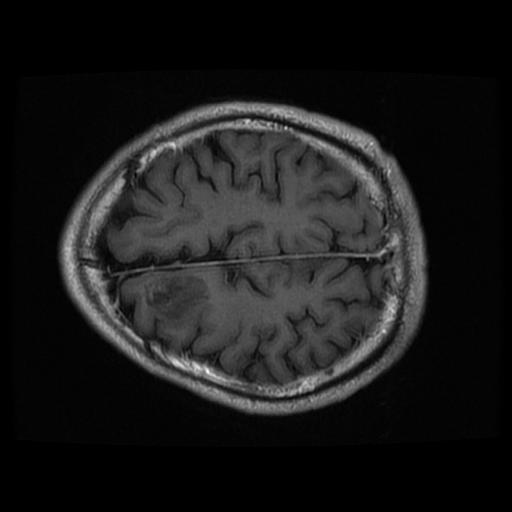glioma: (143, 271, 211, 319)
